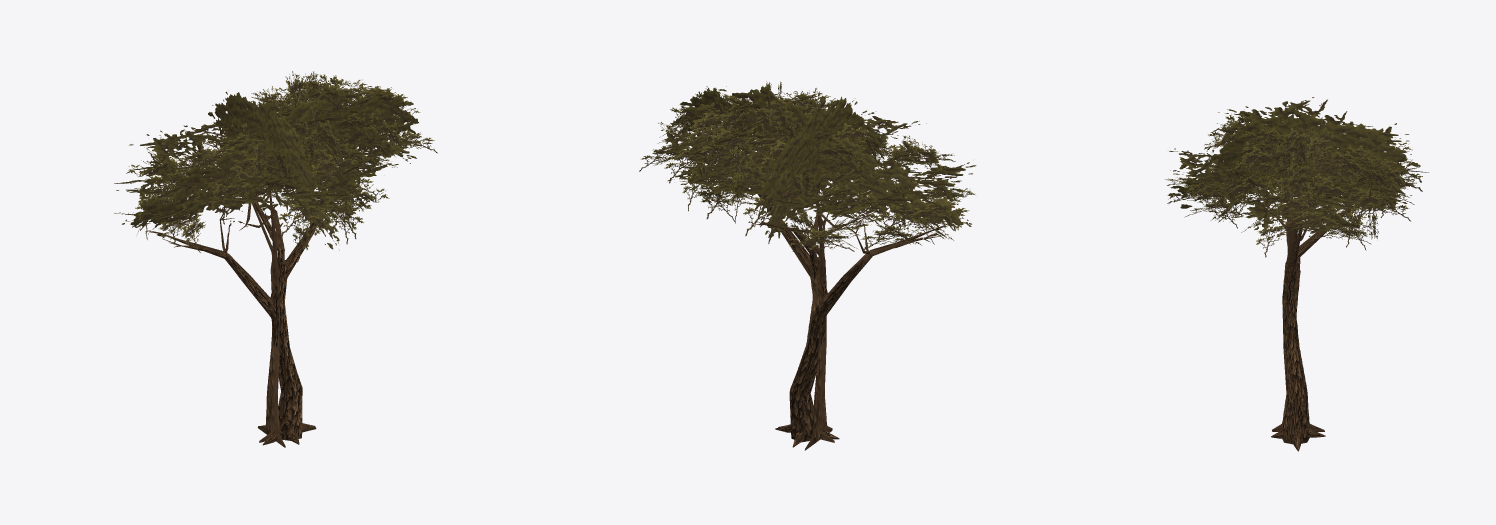
The model's file is Acacia_06_Jovem_Irregular.glb.
The picture shows the model from 3 angles, left to right: view 1: azimuth 30°, elevation 25°; view 2: azimuth 150°, elevation 25°; view 3: azimuth 270°, elevation 25°; orthographic projection. The views are drawn at different scales.
Visible parts, largest first — view 1: Acacia_06_Jovem_Irregular impostor, Folhagem fina, Tronco e raizes, Ramos principais; view 2: Acacia_06_Jovem_Irregular impostor, Folhagem fina, Tronco e raizes, Ramos principais; view 3: Folhagem fina, Acacia_06_Jovem_Irregular impostor, Tronco e raizes, Ramos principais.
Part boxes in pixels (x1,y1,x2,y2): Acacia_06_Jovem_Irregular impostor: (114, 84, 432, 447); Folhagem fina: (114, 71, 437, 262); Tronco e raizes: (262, 261, 315, 445); Ramos principais: (192, 189, 328, 320); Acacia_06_Jovem_Irregular impostor: (655, 84, 976, 450); Folhagem fina: (639, 81, 974, 257); Tronco e raizes: (775, 257, 839, 447); Ramos principais: (757, 194, 907, 318); Folhagem fina: (1165, 112, 1422, 257); Acacia_06_Jovem_Irregular impostor: (1168, 97, 1421, 431); Tronco e raizes: (1271, 264, 1325, 451); Ramos principais: (1285, 200, 1356, 319).
Size of what is drawn, in the model's own units: 5.3 by 5.3 by 5.3.
3 materials, 3 textured.
